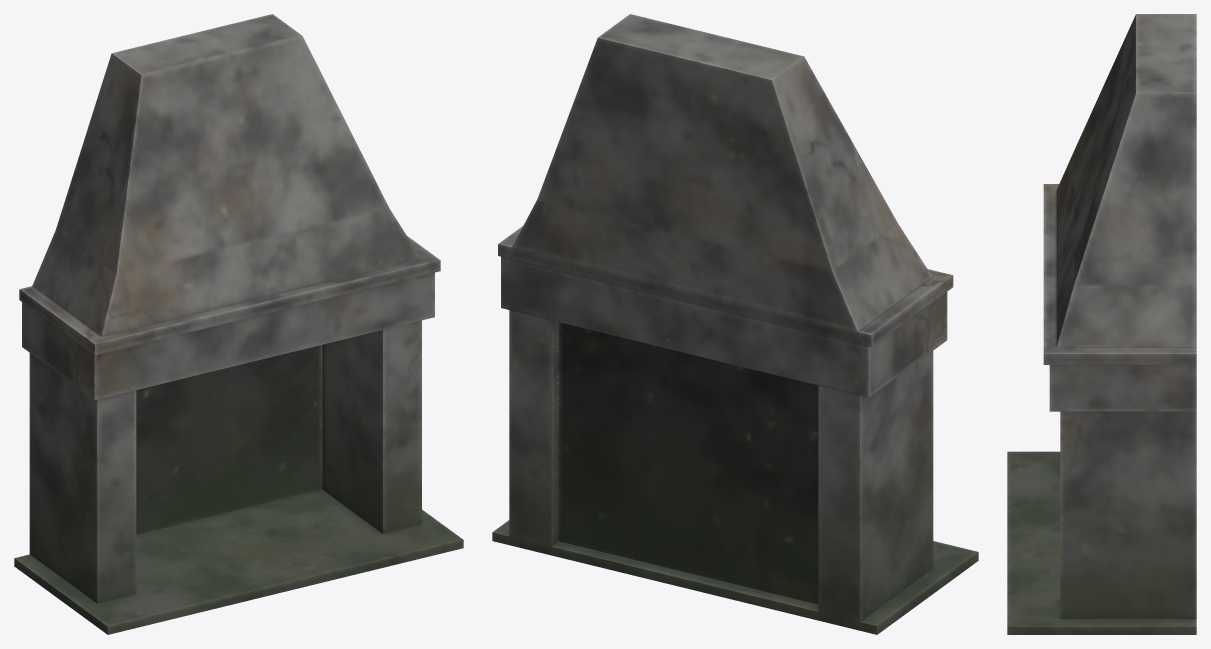
Rendered from cheminee.fbx.
3 renders of one model, left to right at view 1: azimuth 30°, elevation 25°; view 2: azimuth 150°, elevation 25°; view 3: azimuth 270°, elevation 25°, orthographic. The views are drawn at different scales.
Visible parts, largest first — view 1: cheminee; view 2: cheminee; view 3: cheminee.
Part boxes in pixels (left/top/right/bottom): cheminee: left=14, top=14, right=463, bottom=634; cheminee: left=492, top=14, right=978, bottom=634; cheminee: left=1007, top=14, right=1196, bottom=634.
Bounding box in the file's own units: 2.74 × 3.6 × 1.25.
1 material, 1 textured.
